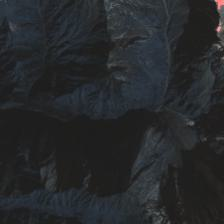landslides: (168, 68, 188, 80)
